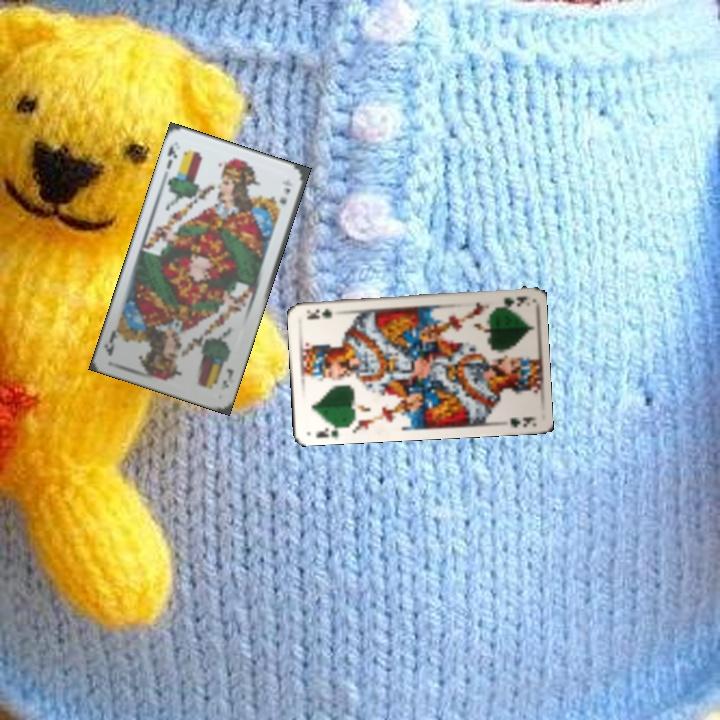EK: (162, 139, 180, 172), (217, 364, 236, 392)
GK: (311, 420, 348, 441), (491, 293, 530, 310)
